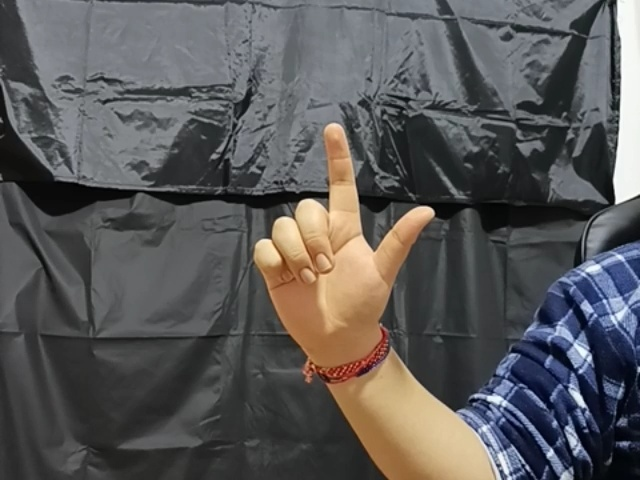L: (245, 120, 436, 337)
